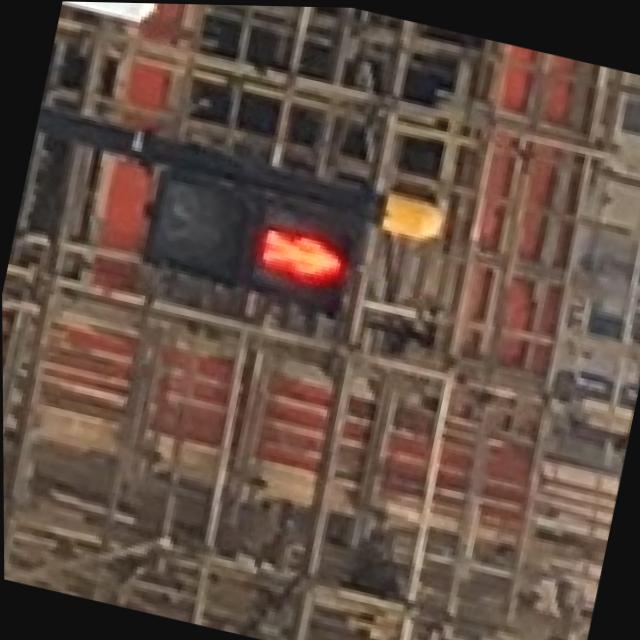red_light: (251, 198, 362, 304)
